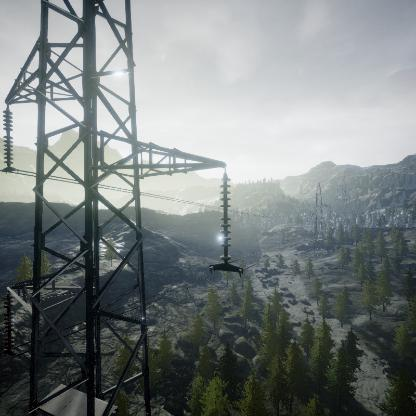insulator: (216, 173, 233, 263), (1, 107, 16, 168)
